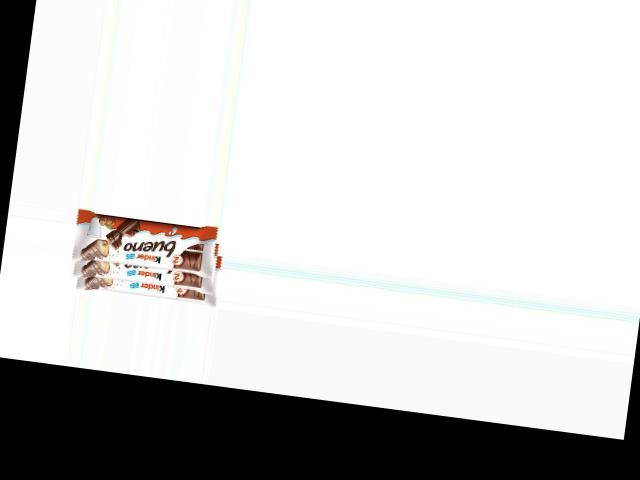chocolate: (71, 208, 225, 307)
